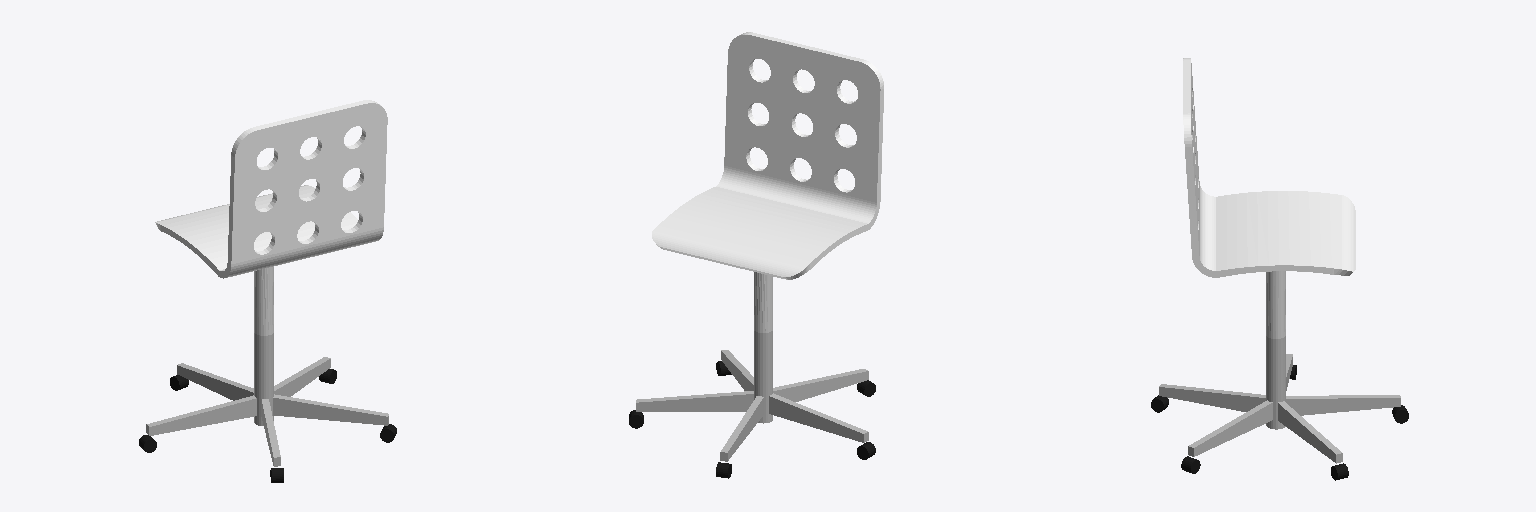
The picture shows the model from 3 angles: view 1: azimuth 30°, elevation 25°; view 2: azimuth 150°, elevation 25°; view 3: azimuth 270°, elevation 25°; orthographic projection.
Visible parts, largest first — view 1: Mesh1 Group2 Group1 Model, Mesh12 Group3 ske3F1 Group1 Model, Mesh5 Group5 Group3 ske3F1 Group1 Model, Mesh7 Group6 Group3 ske3F1 Group1 Model, Mesh3 Group4 Group3 ske3F1 Group1 Model, Mesh11 Group8 Group3 ske3F1 Group1 Model, Mesh9 Group7 Group3 ske3F1 Group1 Model; view 2: Mesh1 Group2 Group1 Model, Mesh12 Group3 ske3F1 Group1 Model, Mesh11 Group8 Group3 ske3F1 Group1 Model, Mesh7 Group6 Group3 ske3F1 Group1 Model, Mesh9 Group7 Group3 ske3F1 Group1 Model, Mesh3 Group4 Group3 ske3F1 Group1 Model, Mesh5 Group5 Group3 ske3F1 Group1 Model; view 3: Mesh1 Group2 Group1 Model, Mesh12 Group3 ske3F1 Group1 Model, Mesh3 Group4 Group3 ske3F1 Group1 Model, Mesh9 Group7 Group3 ske3F1 Group1 Model, Mesh5 Group5 Group3 ske3F1 Group1 Model, Mesh11 Group8 Group3 ske3F1 Group1 Model.
Part boxes in pixels (x1,y1,x2,y2): Mesh1 Group2 Group1 Model: (155,100,387,278); Mesh12 Group3 ske3F1 Group1 Model: (254,267,273,425); Mesh5 Group5 Group3 ske3F1 Group1 Model: (273,394,388,425); Mesh7 Group6 Group3 ske3F1 Group1 Model: (146,395,256,435); Mesh3 Group4 Group3 ske3F1 Group1 Model: (177,363,253,400); Mesh11 Group8 Group3 ske3F1 Group1 Model: (274,357,330,396); Mesh9 Group7 Group3 ske3F1 Group1 Model: (261,399,280,466); Mesh1 Group2 Group1 Model: (652,32,883,279); Mesh12 Group3 ske3F1 Group1 Model: (754,272,772,423); Mesh11 Group8 Group3 ske3F1 Group1 Model: (636,391,753,411); Mesh7 Group6 Group3 ske3F1 Group1 Model: (769,393,868,442); Mesh9 Group7 Group3 ske3F1 Group1 Model: (773,369,868,401); Mesh3 Group4 Group3 ske3F1 Group1 Model: (720,396,763,461); Mesh5 Group5 Group3 ske3F1 Group1 Model: (721,350,753,390); Mesh1 Group2 Group1 Model: (1183,58,1355,277); Mesh12 Group3 ske3F1 Group1 Model: (1266,271,1285,429); Mesh3 Group4 Group3 ske3F1 Group1 Model: (1286,395,1400,415); Mesh9 Group7 Group3 ske3F1 Group1 Model: (1159,384,1265,411); Mesh5 Group5 Group3 ske3F1 Group1 Model: (1188,400,1272,456); Mesh11 Group8 Group3 ske3F1 Group1 Model: (1278,401,1342,463).
Size of the model in its own units: 0.5394 by 0.8095 by 0.5481.